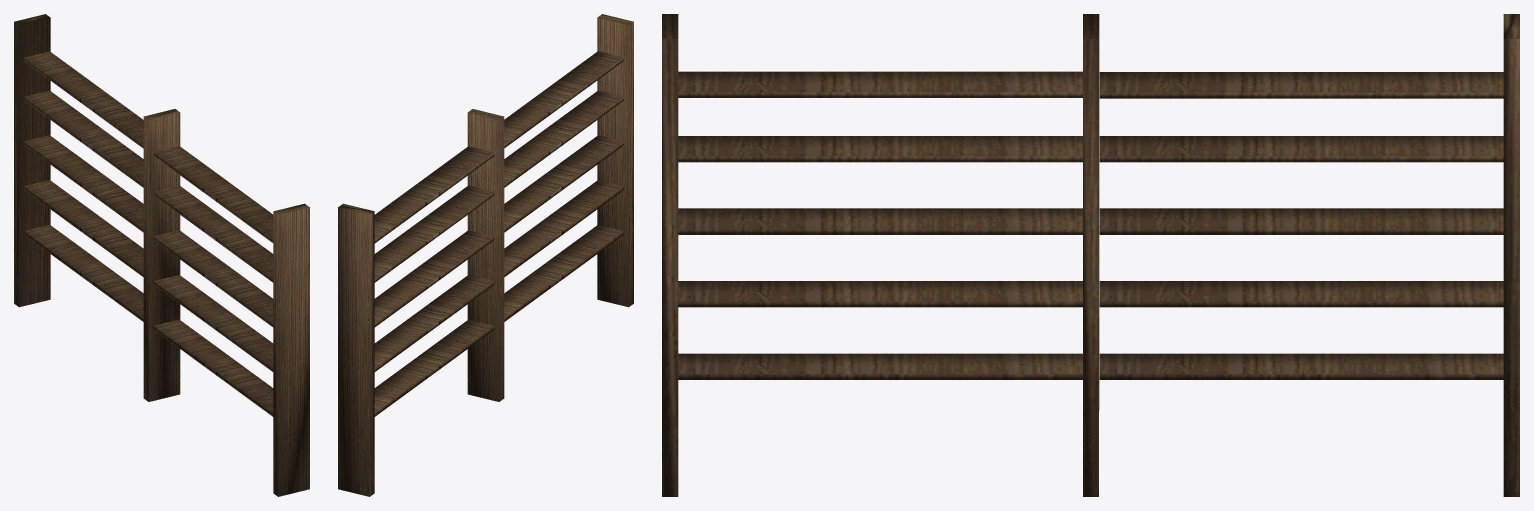
The model's file is Estanteria02.fbx.
The picture shows the model from 3 angles, left to right: view 1: azimuth 30°, elevation 25°; view 2: azimuth 150°, elevation 25°; view 3: azimuth 270°, elevation 25°; orthographic projection. The views are drawn at different scales.
Visible parts, largest first — view 1: Estante02; view 2: Estante02; view 3: Estante02.
Part boxes in pixels (x1,y1,x2,y2): Estante02: (14,14,309,496); Estante02: (338,14,633,496); Estante02: (662,14,1519,496).
Size of the model in its own units: 0.592 by 5.05 by 8.57.
